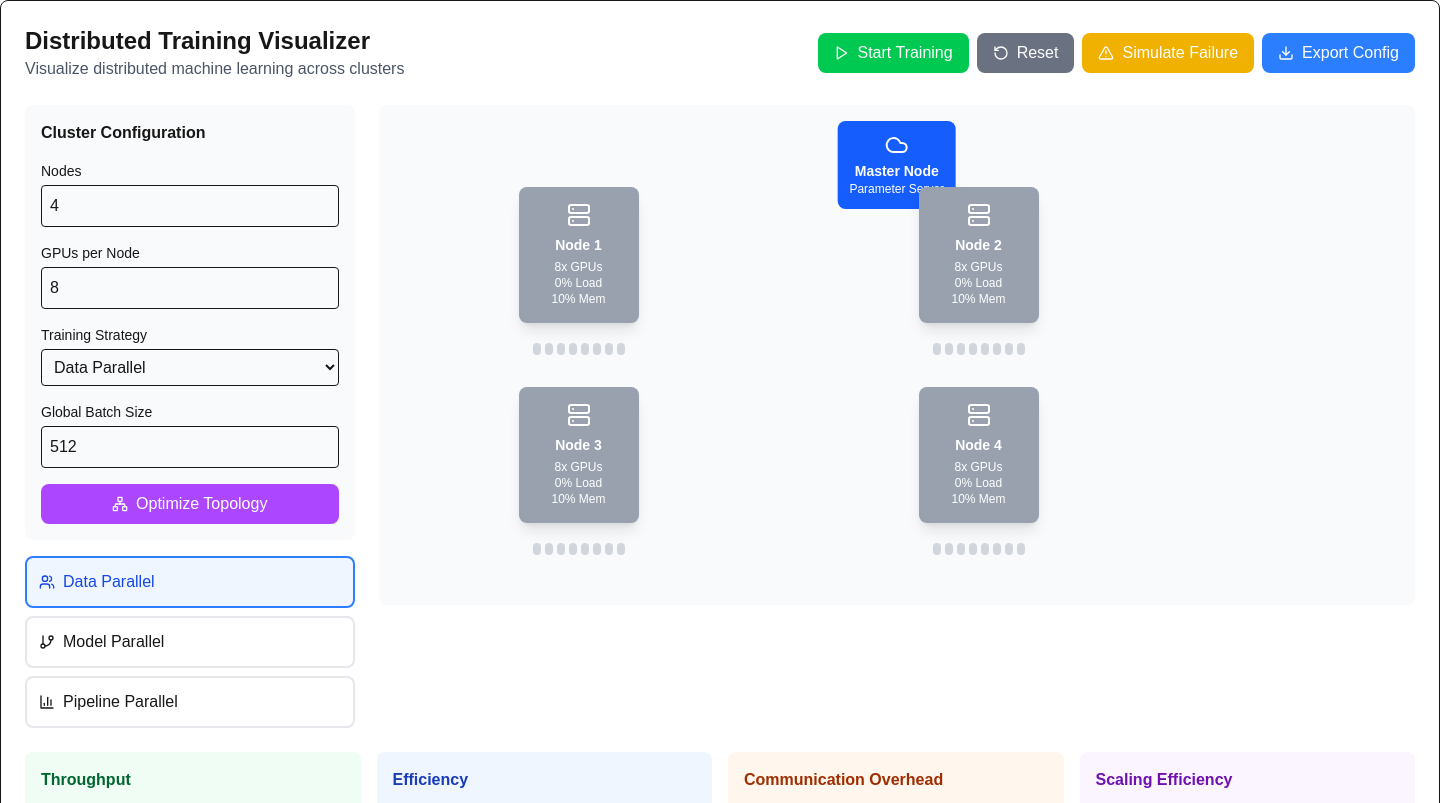
Scenario: DistributedTrainingVisualizer › shows gradient synchronization animation
Click the button "Start Training": x=893, y=53 [818,33,969,73]
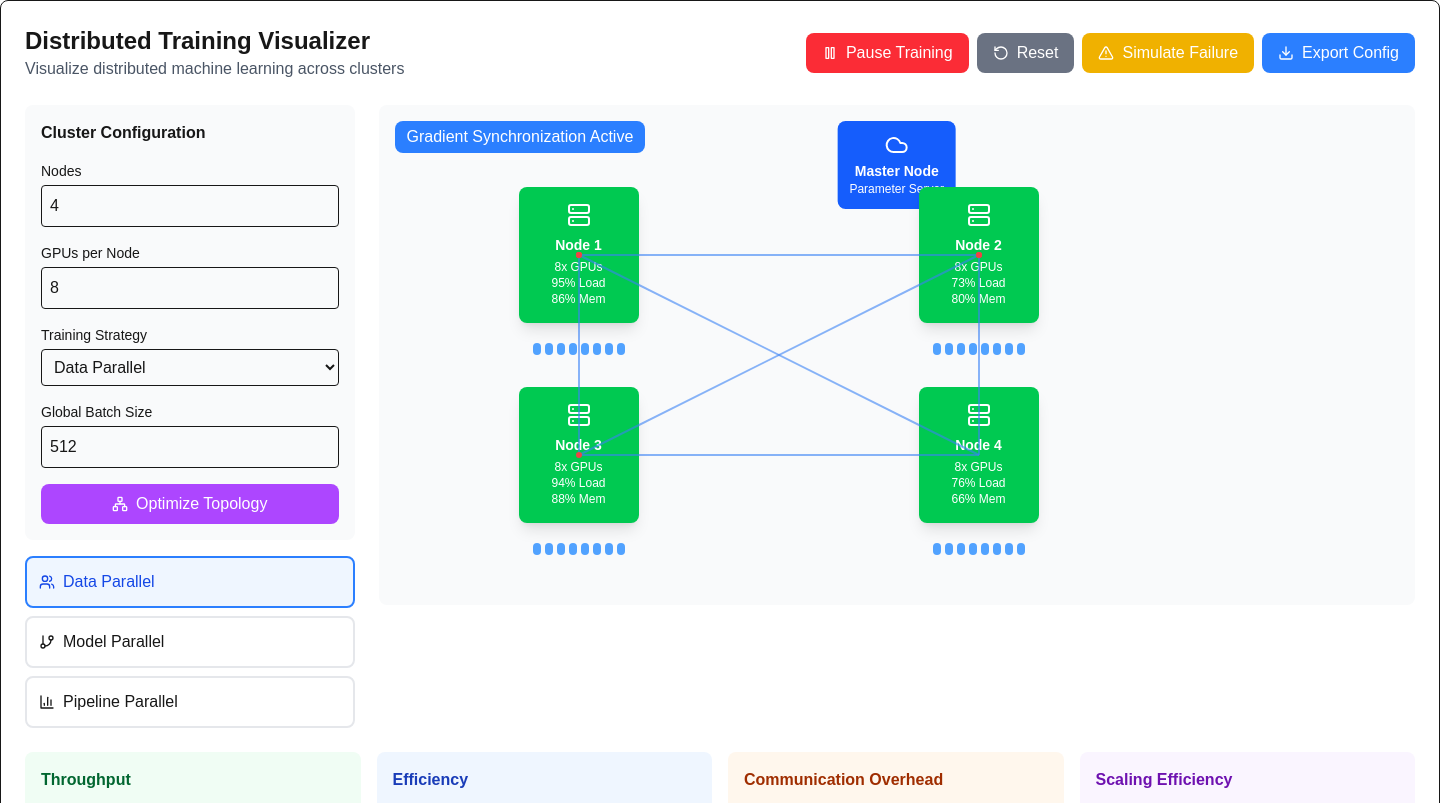
Expected: the text "Gradient Synchronization Active" is shown, [394,121,645,153]
